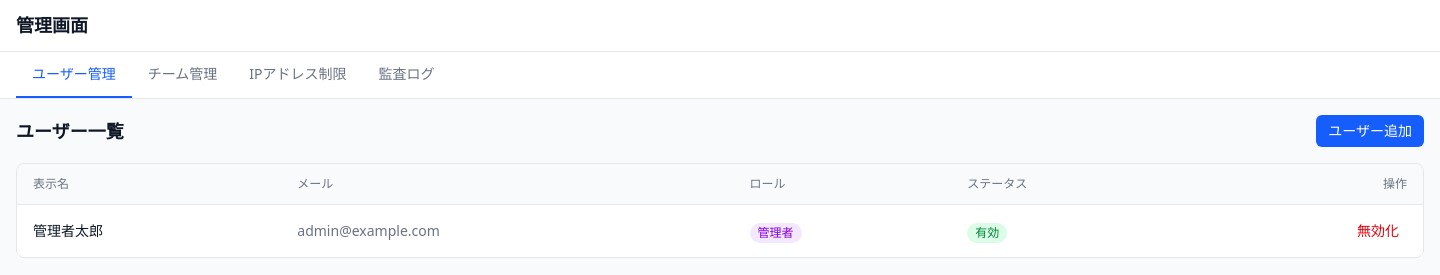
Test case: AdminPage › switches to IP allowlist tab
Click the tab "IPアドレス制限" at (298, 75), box [233, 52, 362, 98]
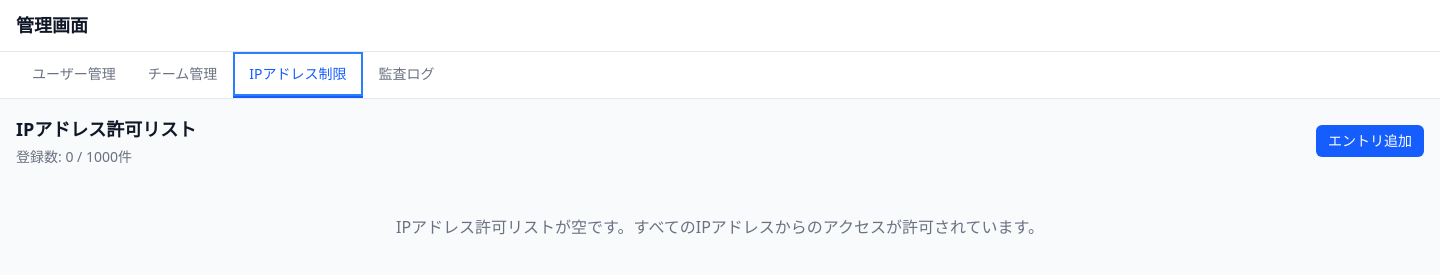
Expected: the heading "IPアドレス許可リスト" is shown, [16, 115, 196, 143]
